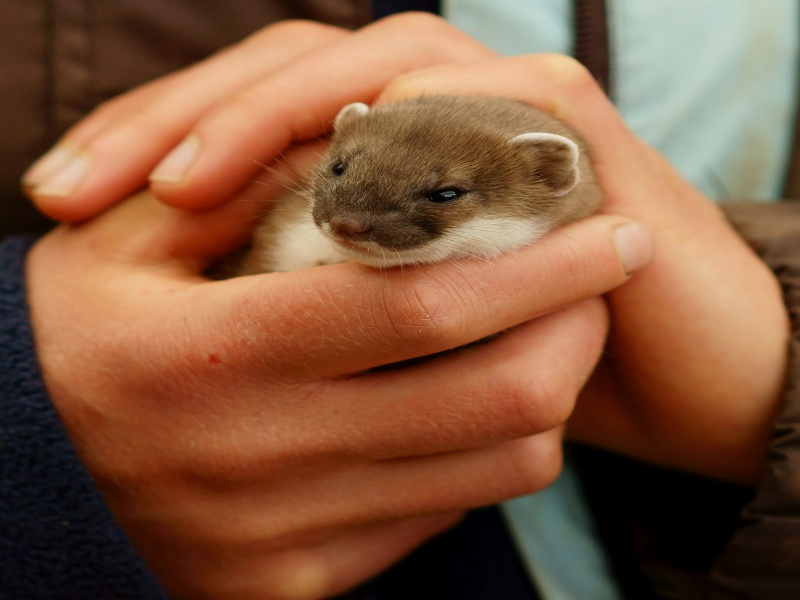minkish: (220, 87, 617, 297)
